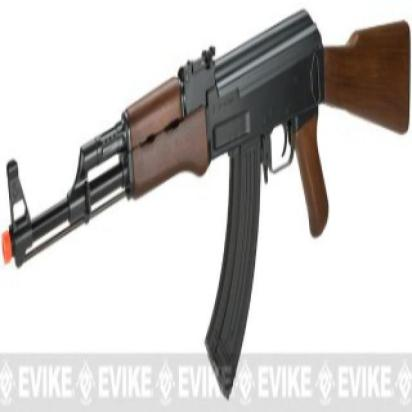Gun: (0, 5, 408, 316)
